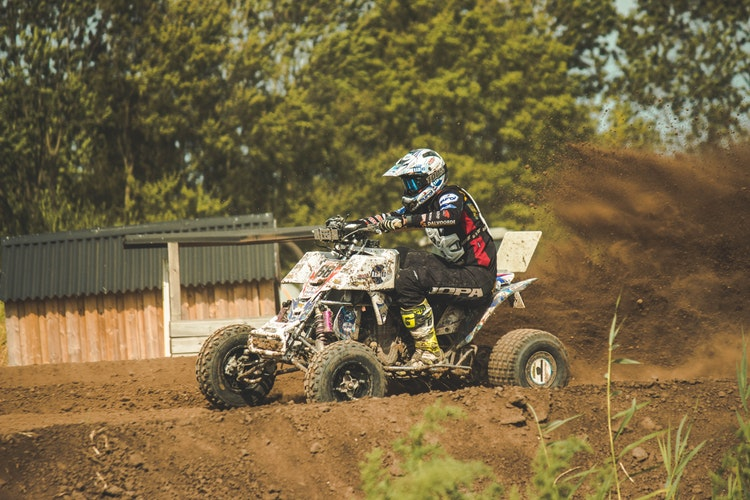helmet: (387, 144, 455, 214)
